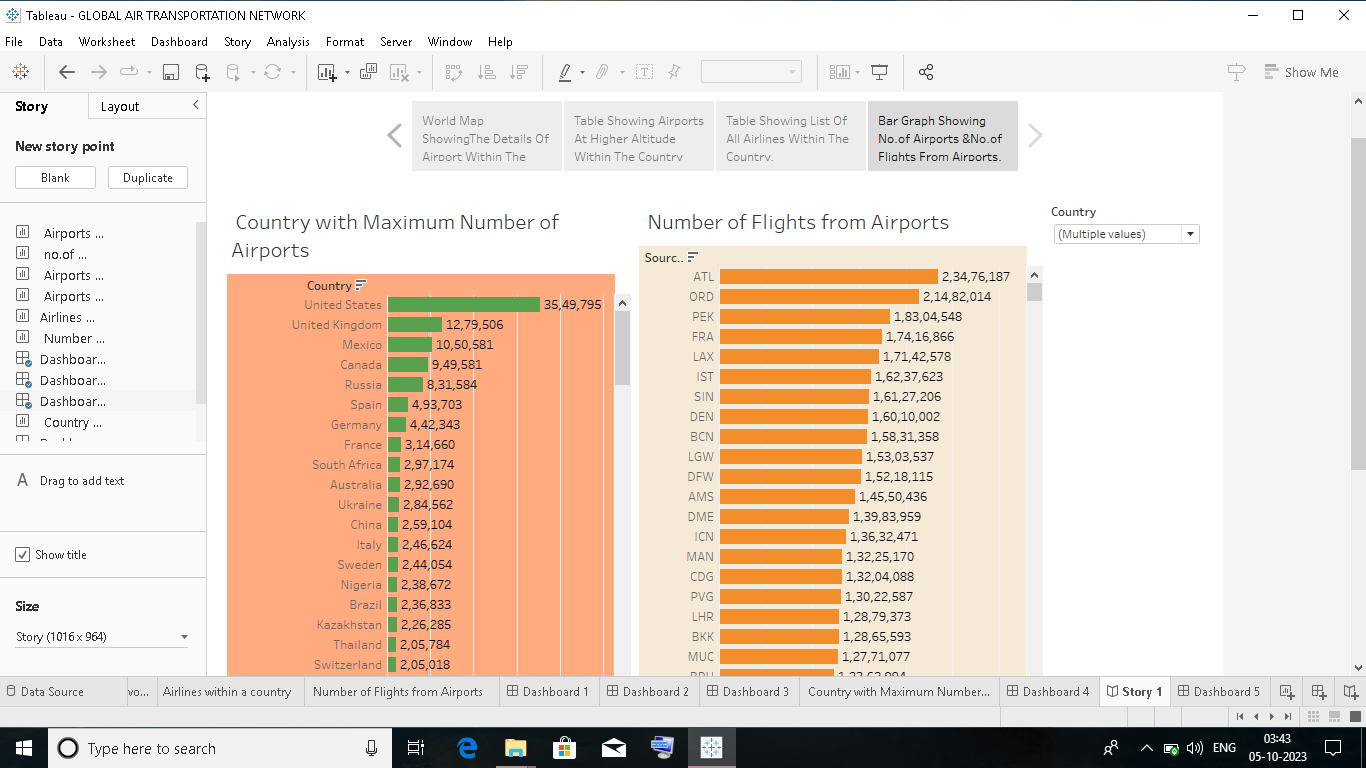

The dashboard page shown, as its layout file describes it:
{"tool":"tableau","page":{"name":"Dashboard 3","canvas":[1000,800],"ordinal":2},"visuals":[{"type":"worksheet","title":" Country with Maximum Number of Airports","mark":"Automatic","rows":["Country"],"cols":["index (routes (1).csv)"],"box":[8,8,412,784]},{"type":"worksheet","title":" Number of Flights from Airports","mark":"Automatic","rows":["Source airport"],"cols":["index (routes (1).csv)"],"box":[420,8,412,784]},{"type":"filter","title":" Country with Maximum Number of Airports","param":"[federated.10ei6qe0yz0oh80zsnboy1ecpc5a].[none:Country:nk]","box":[832,8,160,52]}]}

Visuals, with their boxes on the page's 1000x800 design canvas (x1, y1, x2, y2). These are canvas units, not pixel positions in the 1366x768 screenshot, which may show the page scaled, cropped or inside an application window:
" Country with Maximum Number of Airports" worksheet: [8, 8, 420, 792]
" Number of Flights from Airports" worksheet: [420, 8, 832, 792]
" Country with Maximum Number of Airports" filter: [832, 8, 992, 60]
